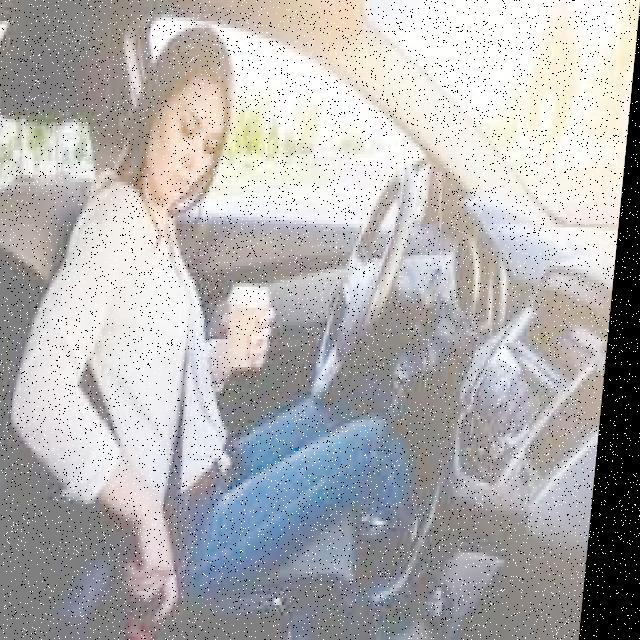seatbelt: (112, 206, 247, 512)
